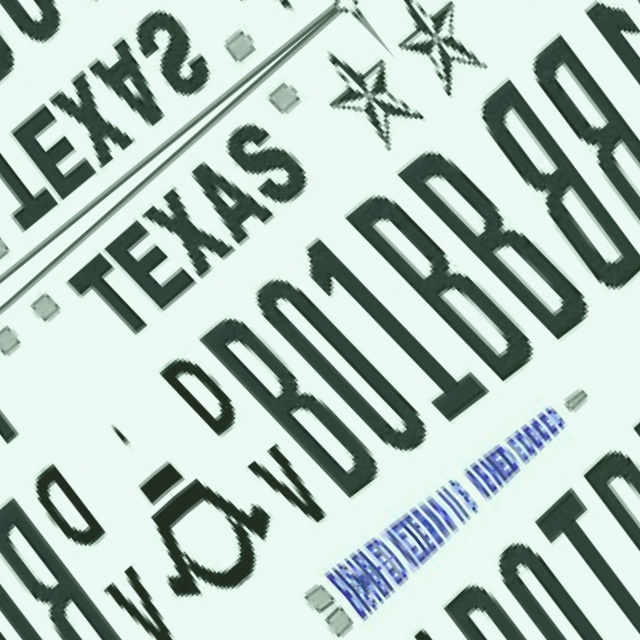ISA: (51, 413, 249, 630), (101, 370, 299, 587)
